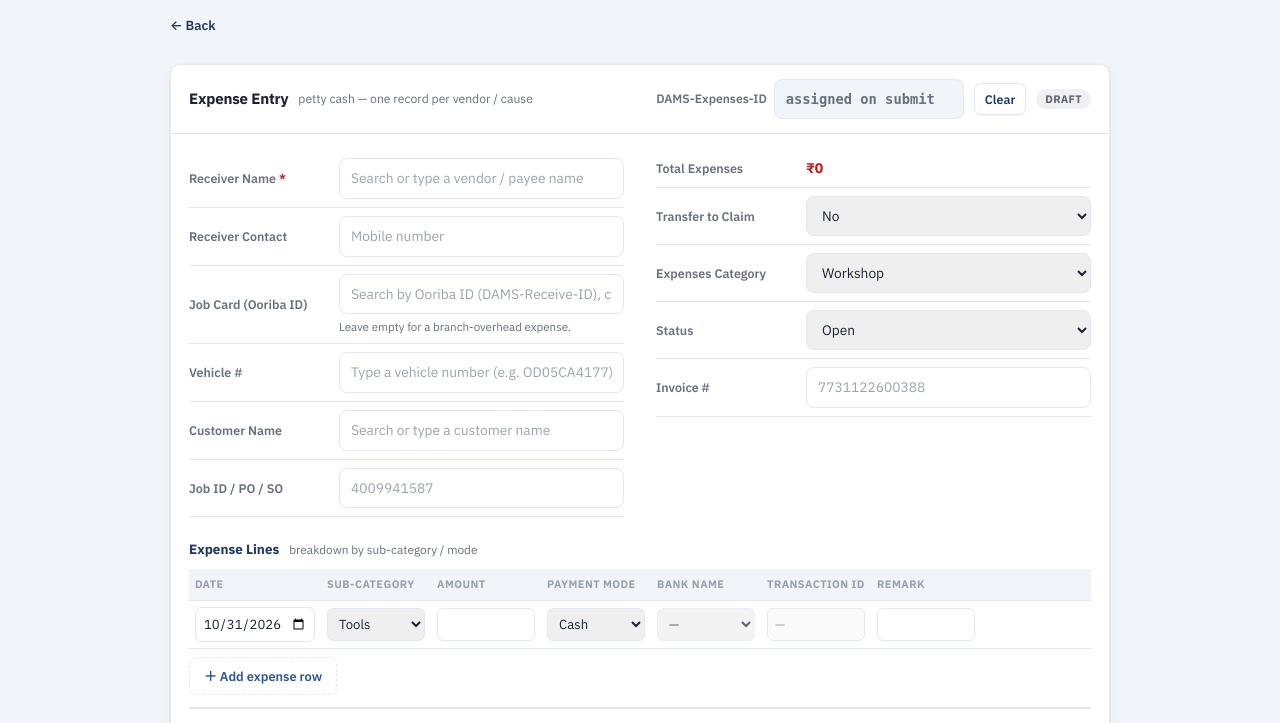
Test: Expense form (rev 76) › clears the new expense fields and expense rows
In the field named "Receiver name": {"x": 482, "y": 179} [339, 158, 624, 199], type "Sharma Auto Spares"
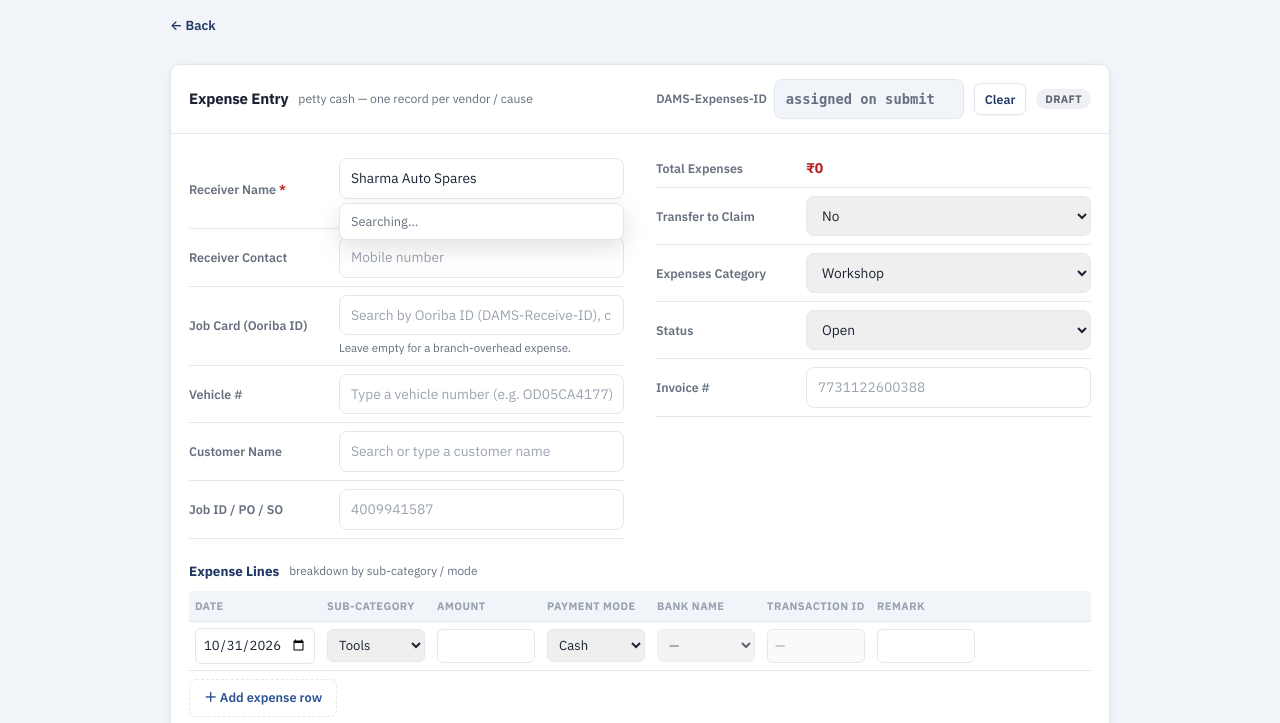
In the field with placeholder "Mobile number": {"x": 482, "y": 258} [339, 237, 624, 278], type "9876543210"
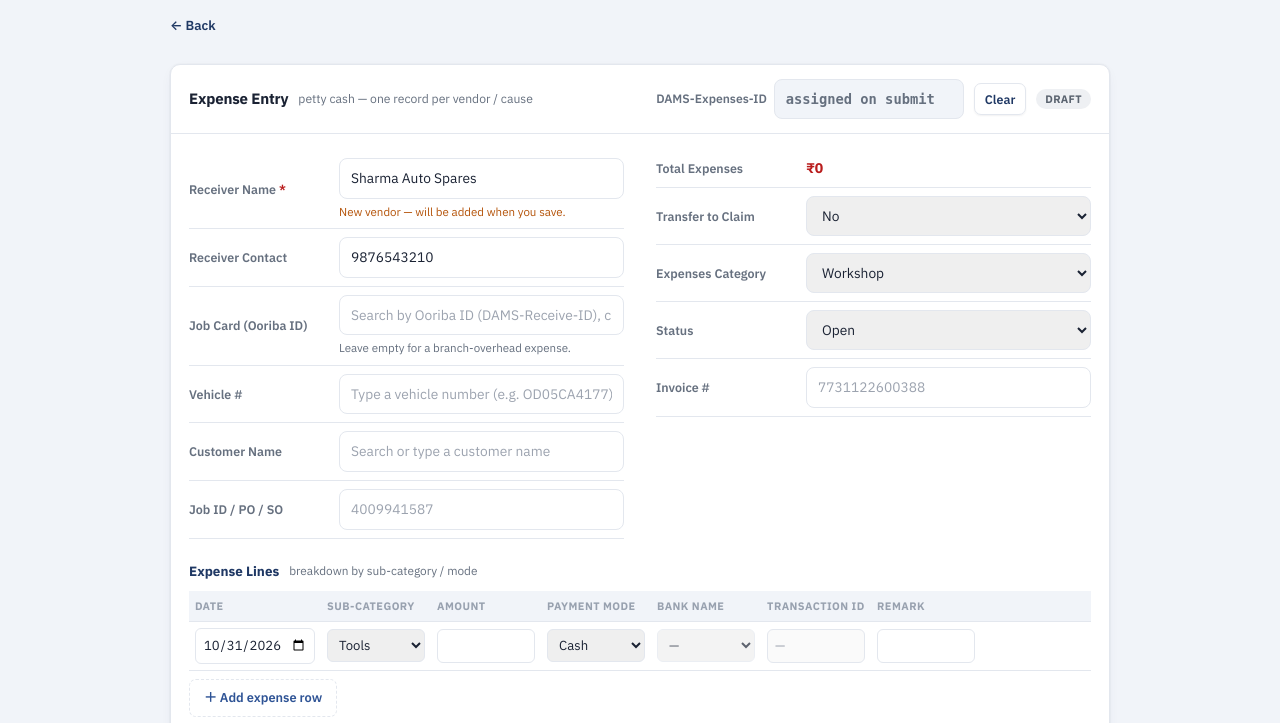
In the number field: {"x": 486, "y": 646} [437, 629, 535, 663], type "300"
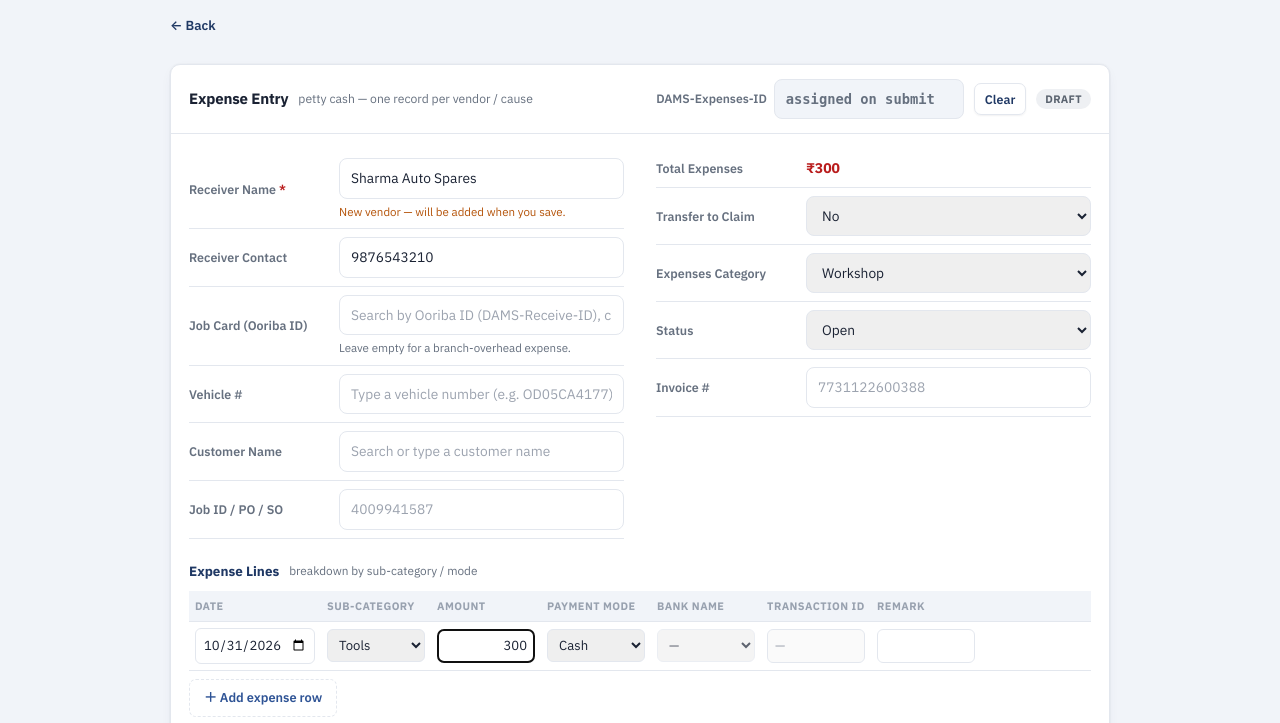
Click the button "Clear": {"x": 1000, "y": 99} [974, 83, 1026, 115]
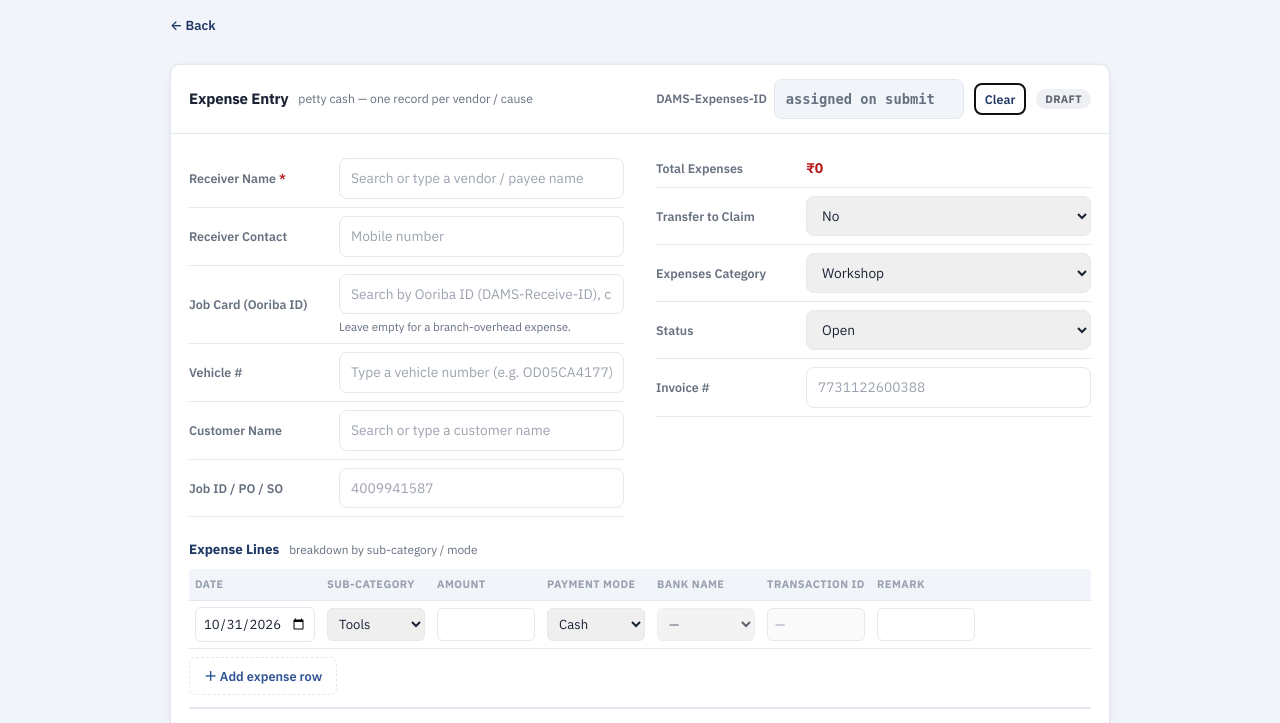
Check: the field named "Receiver name" is empty, box [339, 158, 624, 199]
Check: the field with placeholder "Mobile number" is empty, box [339, 216, 624, 256]
Check: the number field is not empty, box [437, 608, 535, 642]
